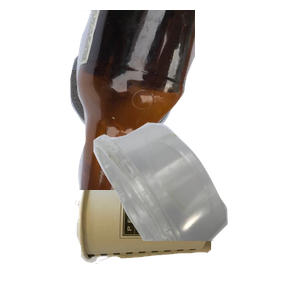glass: (60, 10, 300, 190)
metal: (68, 28, 237, 159)
plastic: (91, 120, 300, 300)
trash: (73, 164, 278, 300)
